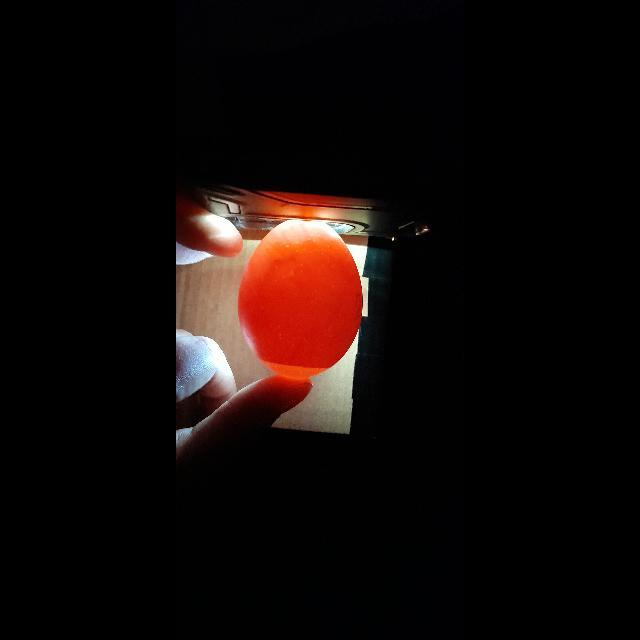Fertile: (239, 215, 361, 378)
